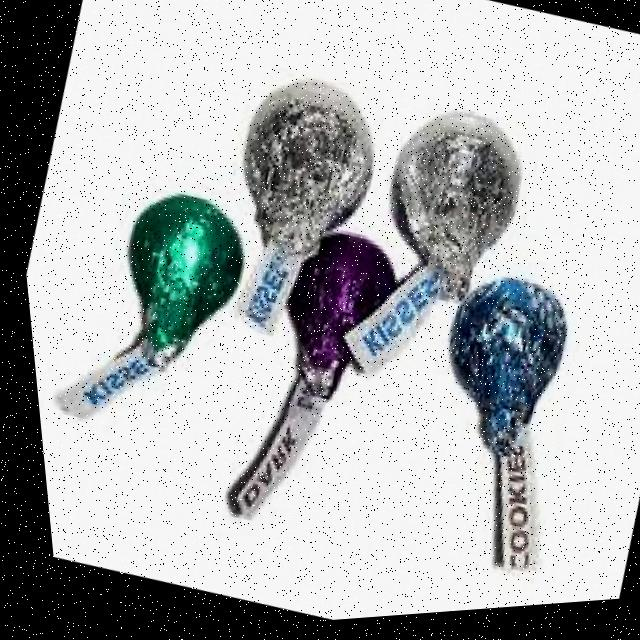kisses: (183, 61, 409, 356), (347, 95, 548, 333)
